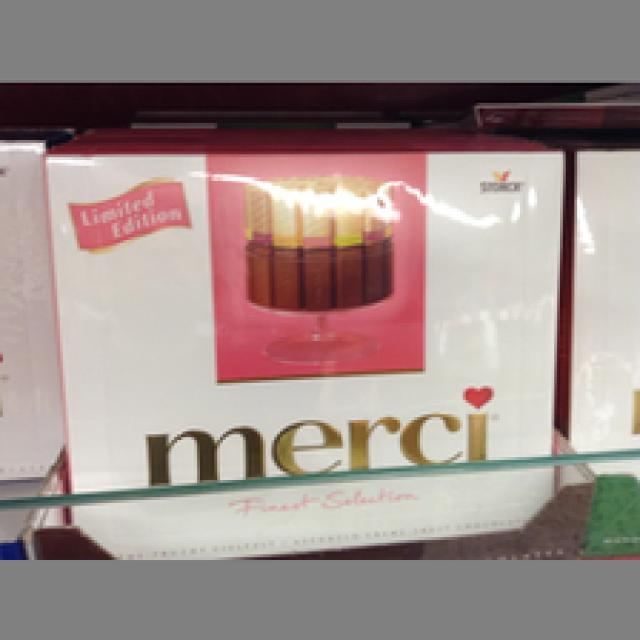groceries: (37, 137, 563, 552)
